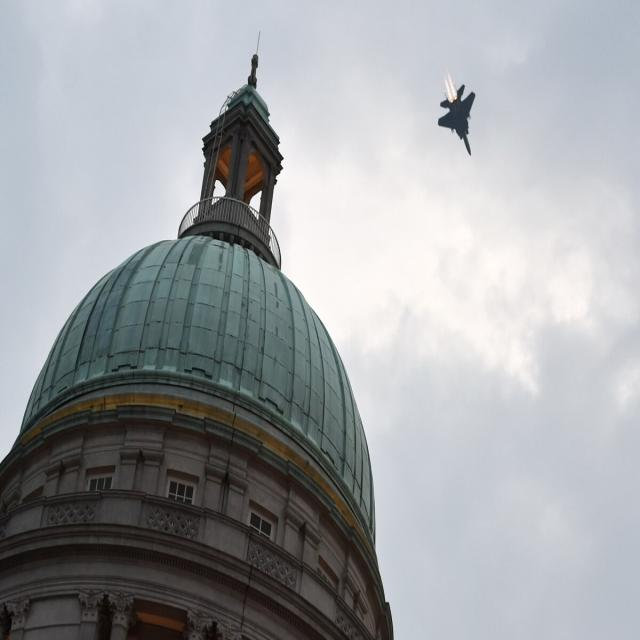MIL_Plane: (438, 82, 476, 156)
